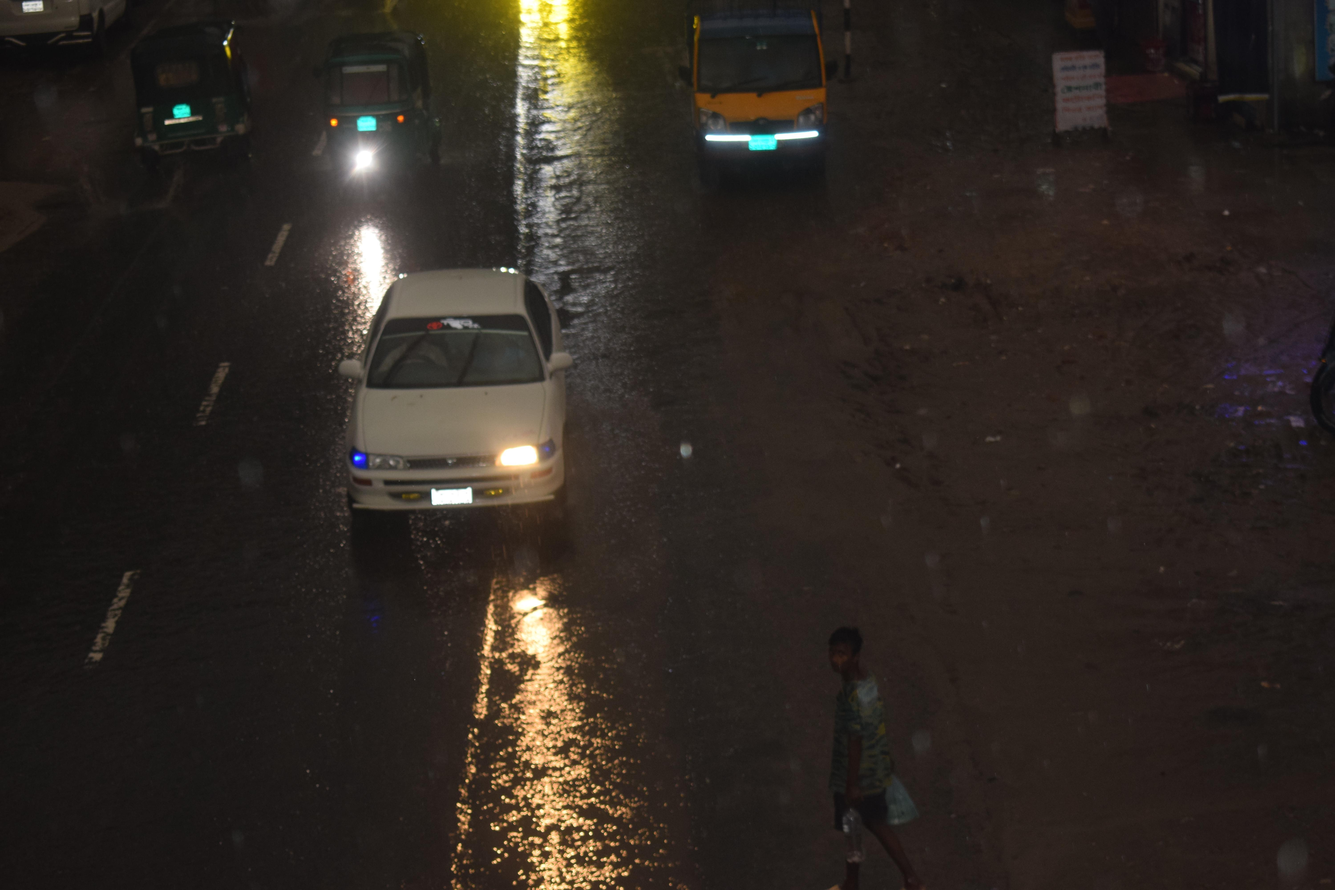Car: (298, 214, 612, 592)
Truck: (638, 0, 864, 221)
